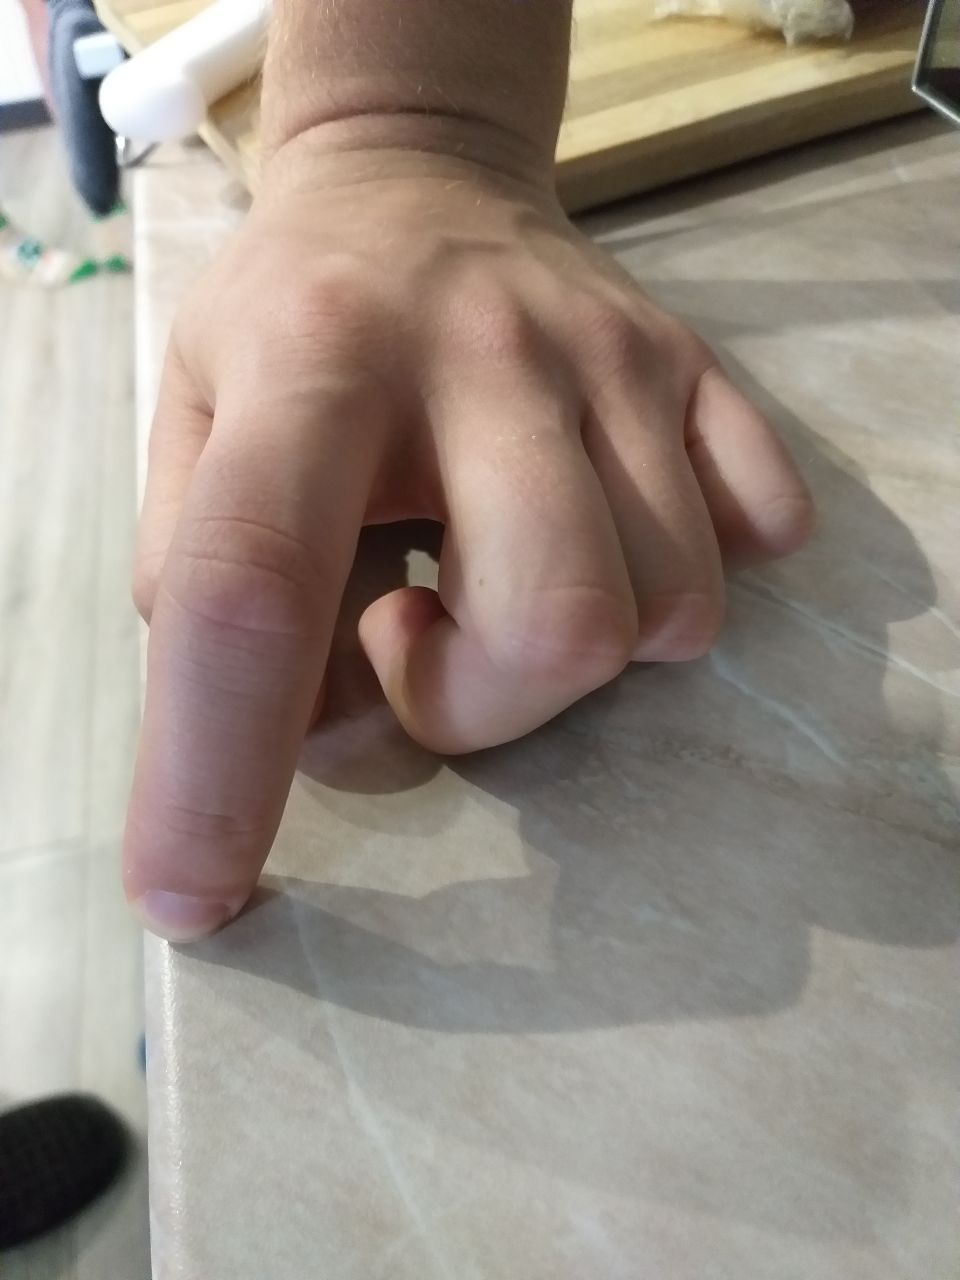finger: (126, 849, 263, 941)
